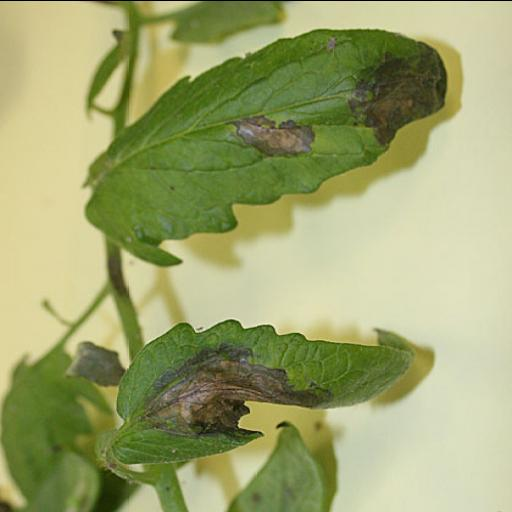Late Blight: (80, 27, 453, 269), (95, 320, 413, 464)
